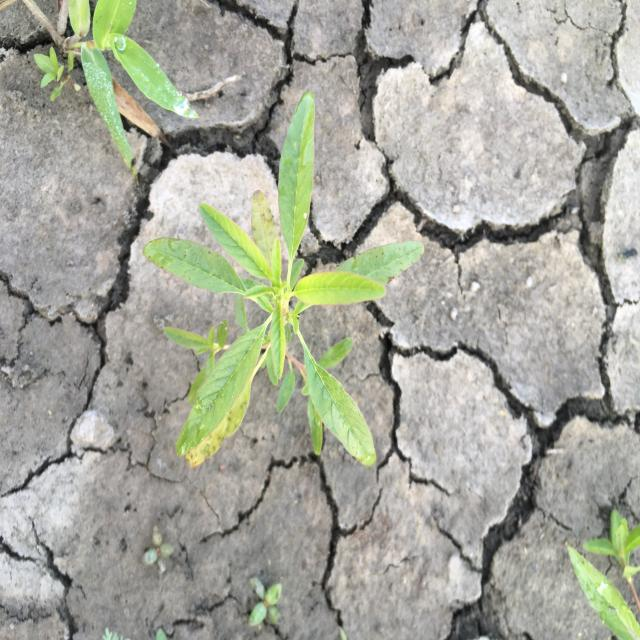Waterhemp: (140, 89, 426, 470)
